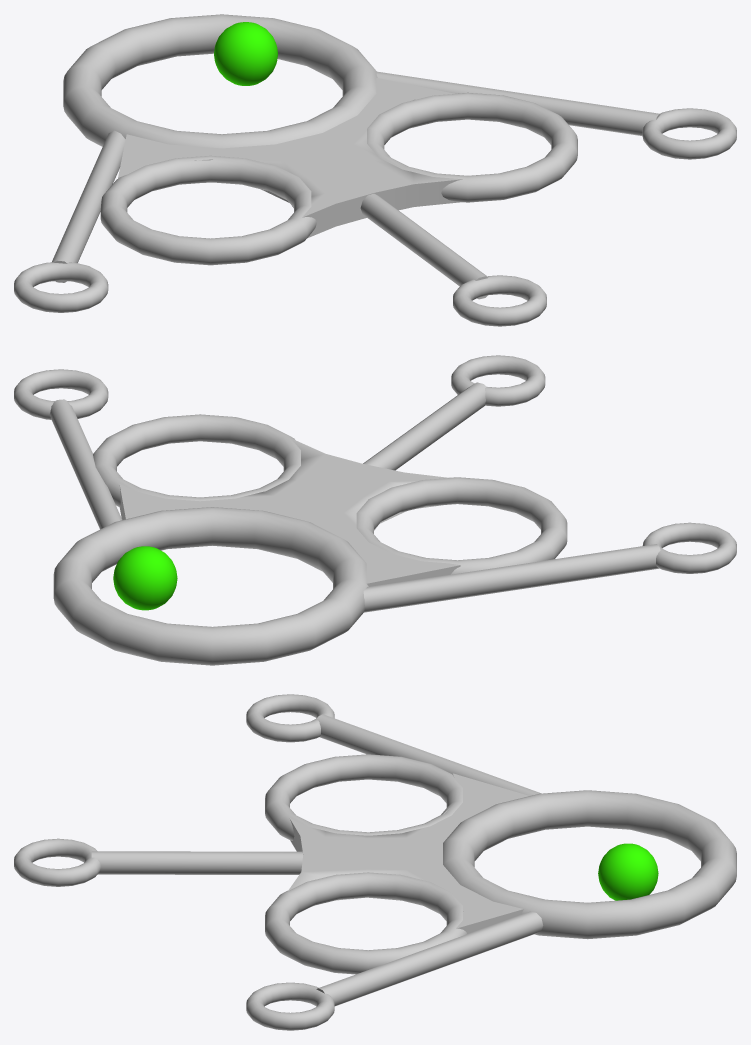
File: Character_suzanne.fbx
The picture shows the model from 3 angles, top to bottom: view 1: azimuth 30°, elevation 25°; view 2: azimuth 150°, elevation 25°; view 3: azimuth 270°, elevation 25°; orthographic projection. The views are drawn at different scales.
Parts seen in each view (by area): view 1: Torus, Cube, Torus_2, Torus_1, Cylinder_1, Torus_3, Torus_5_2, Cylinder, Torus_5, Cylinder_2, Sphere; view 2: Torus, Cube, Torus_2, Cylinder_2, Torus_1, Sphere, Cylinder, Cylinder_1, Torus_3, Torus_5, Torus_5_2; view 3: Torus, Cube, Torus_1, Torus_2, Cylinder_1, Cylinder, Cylinder_2, Torus_5_2, Torus_5, Torus_3, Sphere.
Part boxes in pixels (bbox=[...]): Torus: bbox=[63, 14, 377, 148]; Cube: bbox=[118, 78, 462, 238]; Torus_2: bbox=[100, 155, 316, 265]; Torus_1: bbox=[367, 92, 577, 202]; Cylinder_1: bbox=[376, 71, 660, 136]; Torus_3: bbox=[14, 262, 108, 312]; Torus_5_2: bbox=[642, 108, 736, 159]; Cylinder: bbox=[360, 193, 488, 299]; Torus_5: bbox=[453, 275, 546, 326]; Cylinder_2: bbox=[52, 130, 125, 282]; Sphere: bbox=[214, 22, 277, 85]; Torus: bbox=[53, 507, 368, 665]; Cube: bbox=[119, 438, 460, 586]; Torus_2: bbox=[356, 477, 567, 574]; Cylinder_2: bbox=[363, 544, 660, 612]; Torus_1: bbox=[93, 414, 300, 507]; Sphere: bbox=[113, 546, 177, 610]; Cylinder: bbox=[363, 382, 486, 470]; Cylinder_1: bbox=[49, 399, 122, 529]; Torus_3: bbox=[642, 522, 736, 573]; Torus_5: bbox=[451, 355, 545, 406]; Torus_5_2: bbox=[14, 369, 108, 419]; Torus: bbox=[443, 790, 736, 939]; Cube: bbox=[288, 773, 528, 933]; Torus_1: bbox=[265, 872, 466, 974]; Torus_2: bbox=[265, 754, 462, 840]; Cylinder_1: bbox=[316, 911, 543, 1006]; Cylinder: bbox=[91, 851, 302, 874]; Cylinder_2: bbox=[316, 714, 541, 795]; Torus_5_2: bbox=[246, 982, 334, 1030]; Torus_5: bbox=[14, 838, 100, 886]; Torus_3: bbox=[246, 694, 334, 742]; Sphere: bbox=[598, 843, 658, 900].
Bounding box in the file's own units: 4060 × 323 × 3803.
